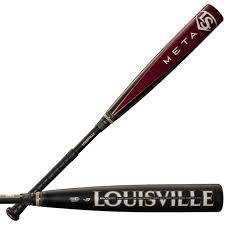baseball bat: (6, 2, 224, 222), (1, 180, 224, 213)
